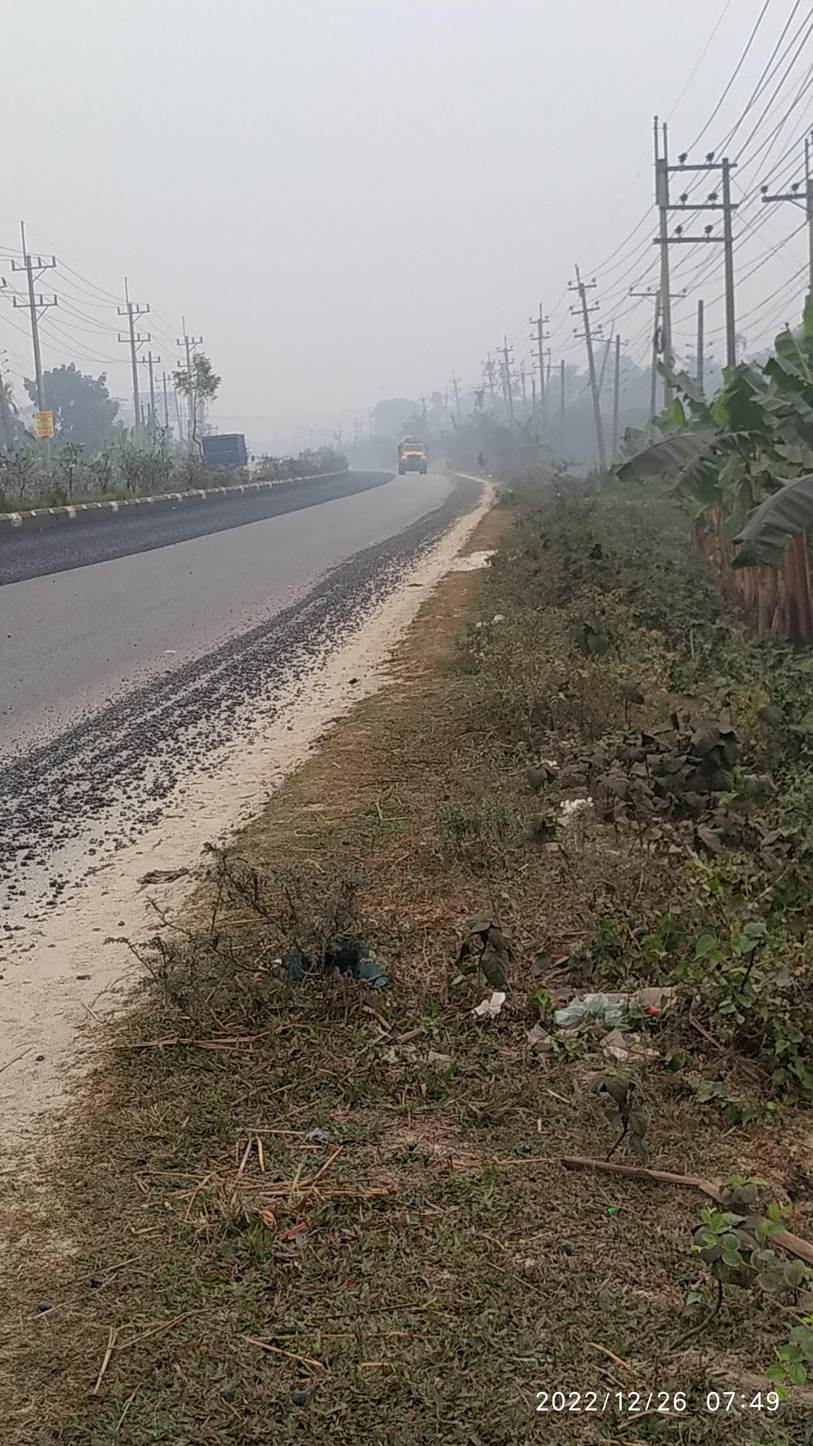Truck: (186, 412, 266, 501), (369, 422, 450, 494)
